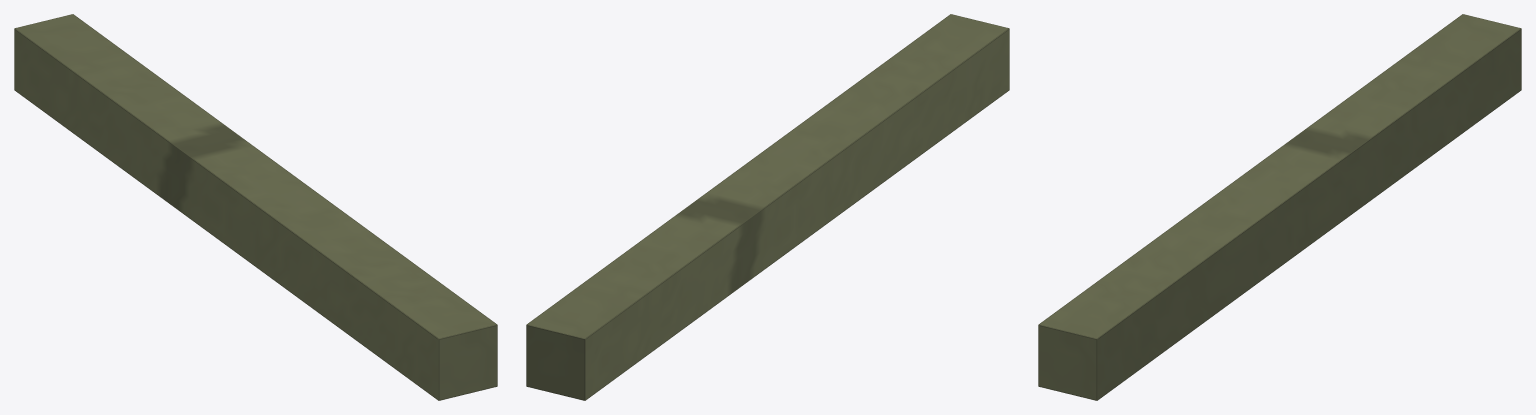
3 renders of one model, left to right at view 1: azimuth 30°, elevation 25°; view 2: azimuth 150°, elevation 25°; view 3: azimuth 330°, elevation 25°, orthographic.
Visible parts, largest first — view 1: part-a; view 2: part-a; view 3: part-a.
Boxes of the visible parts, x1,y1,x2,y2 form: part-a: (14,14,497,400); part-a: (526,14,1009,400); part-a: (1038,14,1521,400).
Bounding box in the file's own units: 0.1208 × 0.1208 × 1.5.
